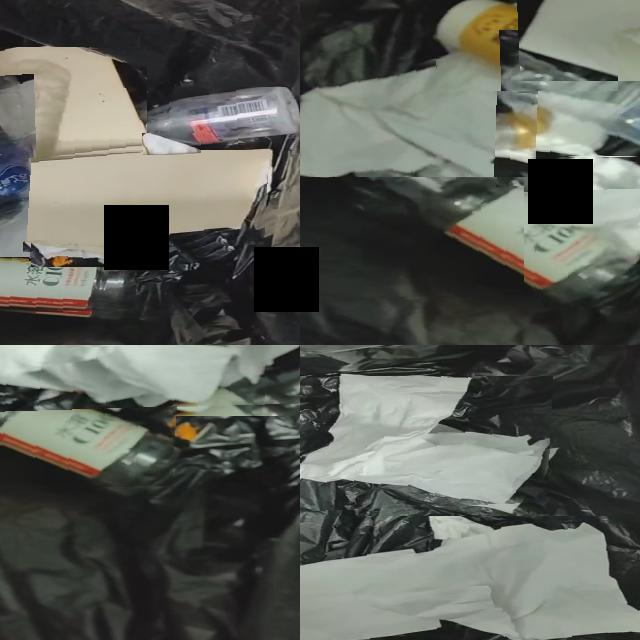bottle: (362, 156, 640, 293), (0, 386, 176, 488), (498, 30, 640, 147), (135, 87, 299, 147), (0, 259, 138, 313), (0, 79, 32, 238)
carton: (0, 150, 270, 253), (0, 47, 147, 160)
dixie_cup: (435, 0, 618, 91)
paper: (300, 516, 640, 640), (300, 376, 552, 506), (300, 60, 538, 177), (0, 345, 300, 410), (518, 0, 640, 81), (524, 177, 640, 258), (31, 242, 142, 267), (143, 133, 201, 155)
